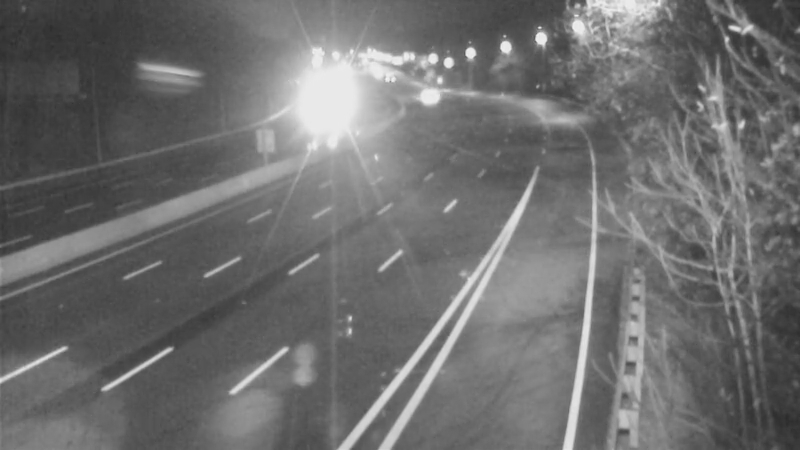vehicle: (363, 54, 413, 104), (397, 72, 447, 122)
